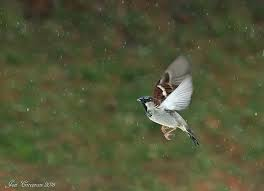hsparrow: (132, 52, 207, 149)
